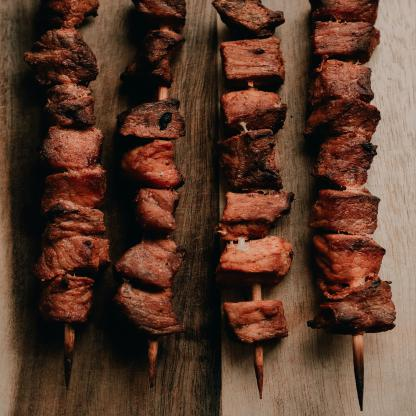Carne: (116, 30, 192, 91), (37, 236, 121, 282), (28, 32, 103, 83), (215, 140, 288, 190), (123, 235, 187, 292), (329, 280, 400, 329), (216, 38, 288, 86), (35, 166, 121, 206), (115, 97, 192, 141), (218, 187, 290, 232), (34, 197, 115, 237), (116, 286, 181, 334), (34, 78, 97, 127), (315, 192, 387, 234), (36, 273, 96, 323), (125, 138, 184, 187), (35, 125, 98, 169), (308, 104, 382, 141), (226, 234, 288, 278), (221, 88, 285, 130), (316, 145, 378, 188), (316, 18, 379, 60), (322, 240, 392, 277), (314, 60, 378, 98), (230, 301, 294, 337), (226, 0, 288, 37), (140, 182, 180, 229), (47, 0, 99, 31), (132, 0, 188, 27)
